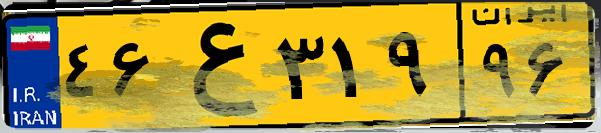1: (330, 28, 385, 110)
3: (270, 28, 330, 110)
4: (57, 26, 110, 100)
6: (525, 38, 570, 115), (110, 28, 158, 98)
9: (385, 28, 445, 110), (475, 38, 525, 113)
ع: (158, 12, 270, 120)
